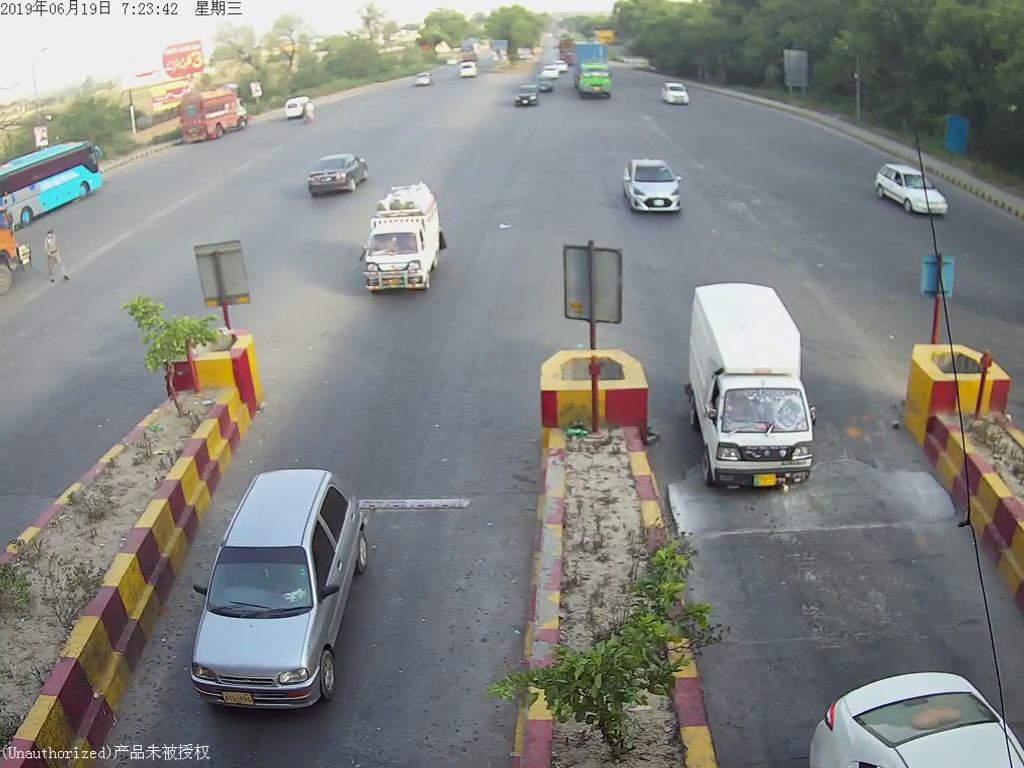Cat-1: (186, 464, 386, 724), (684, 291, 834, 503), (357, 179, 450, 312), (617, 153, 691, 224)
